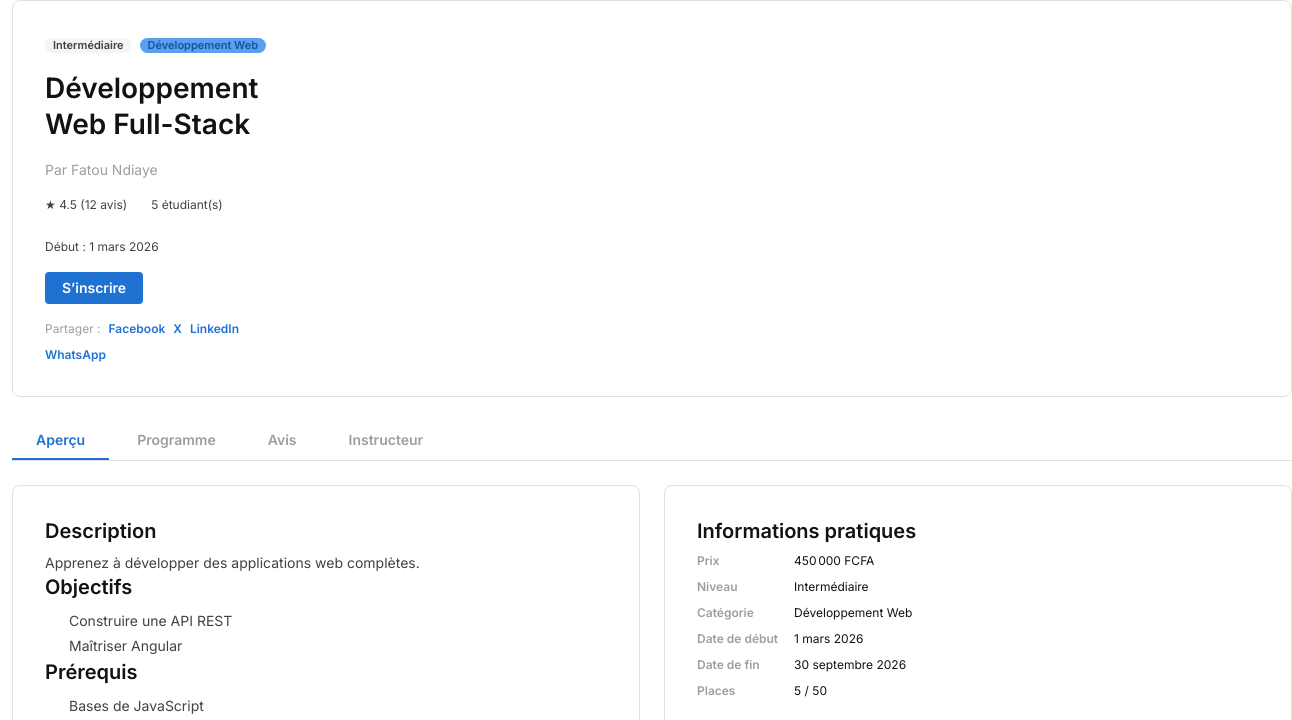
it: FormationDetailComponent › should display the curriculum tab with modules and lessons
The image size is (1292, 720).
Click the button with class "detail__tab" showing "Programme". click: (176, 440)
box: [113, 421, 240, 460]
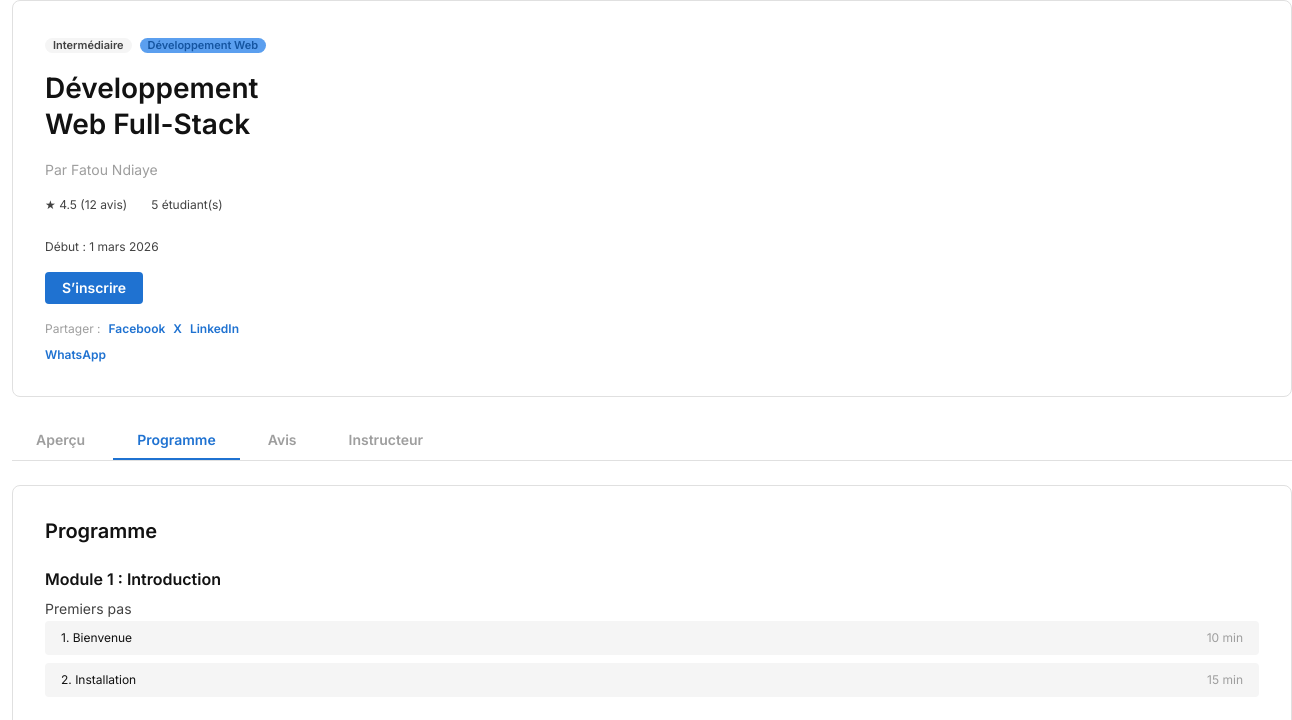
Now the text "Module 1 : Introduction" is shown, box [45, 569, 221, 589]
Now the text "Bienvenue" is shown, box [61, 630, 132, 645]
Now the text "15 min" is shown, box [1207, 671, 1243, 689]
